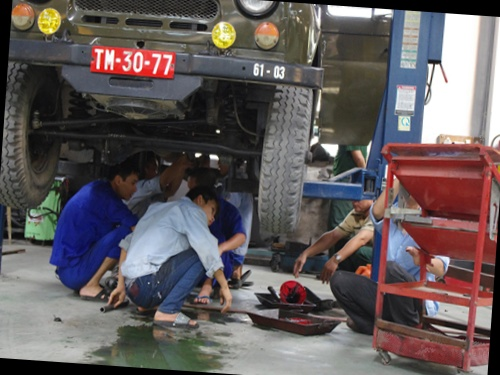plate: (88, 44, 175, 84)
